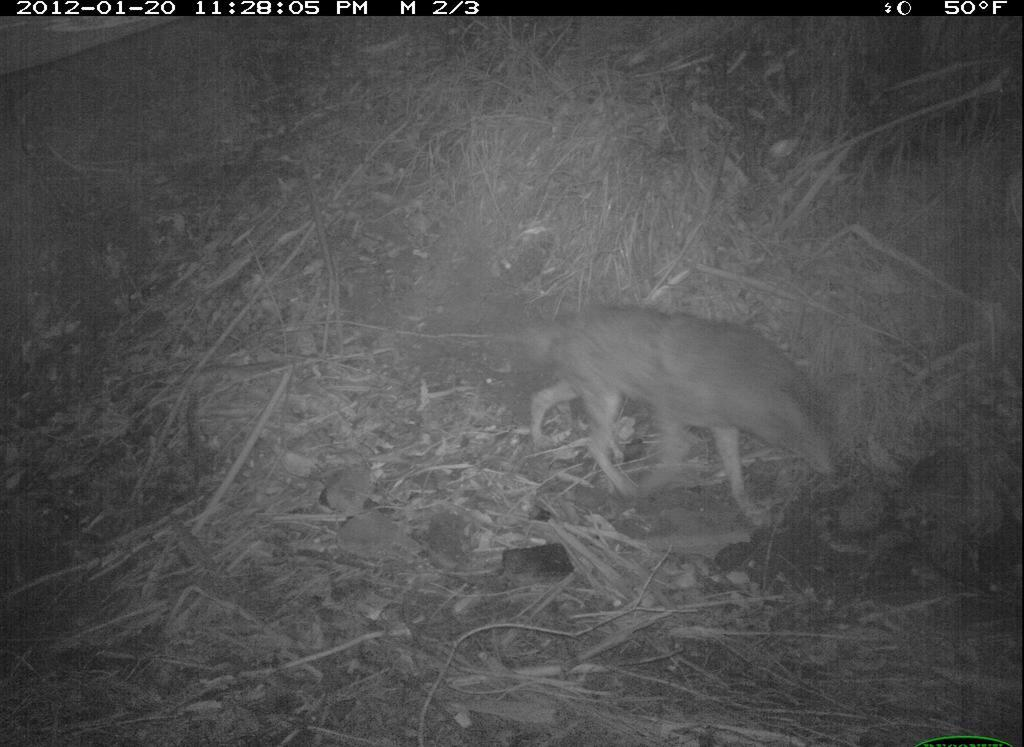coyote: (504, 295, 836, 534)
